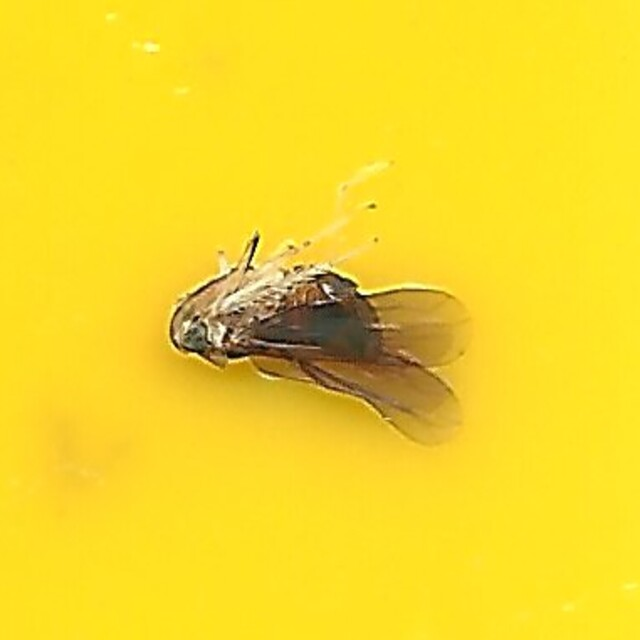Hemiptera: (168, 192, 472, 448)
